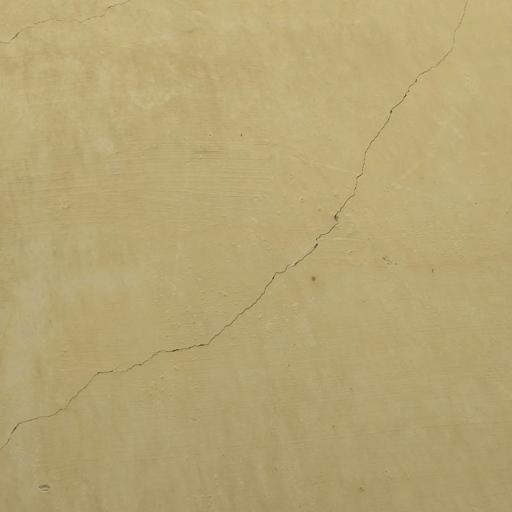minor_crack: (1, 1, 477, 462)
